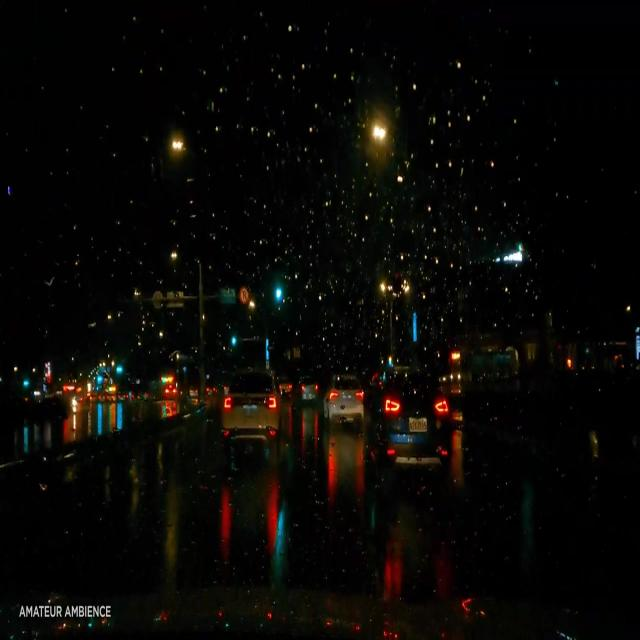Car: (375, 370, 450, 465), (222, 370, 281, 443), (325, 375, 365, 419), (291, 375, 316, 404)
